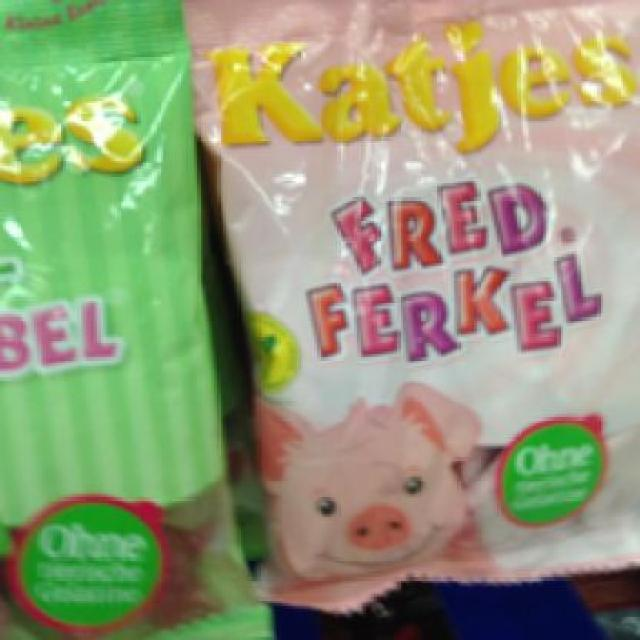Candy: (185, 0, 638, 600)
